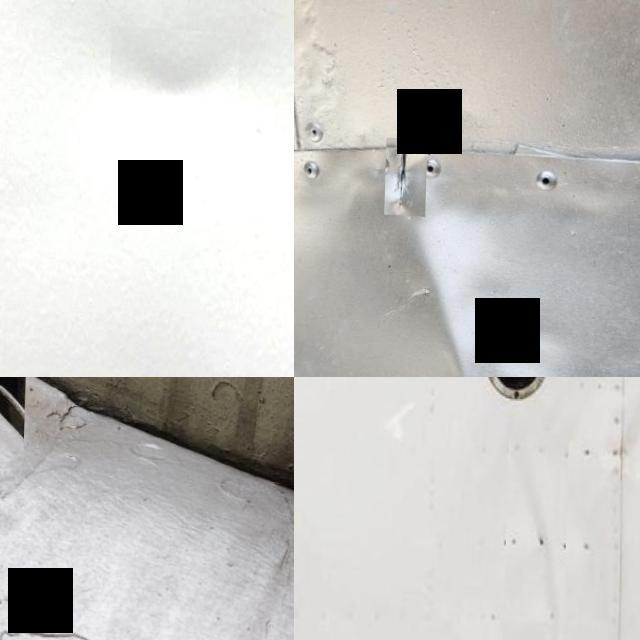Crack: (386, 134, 429, 213), (0, 377, 27, 447)
Dent: (323, 151, 610, 377), (511, 431, 567, 640), (112, 26, 239, 114)
